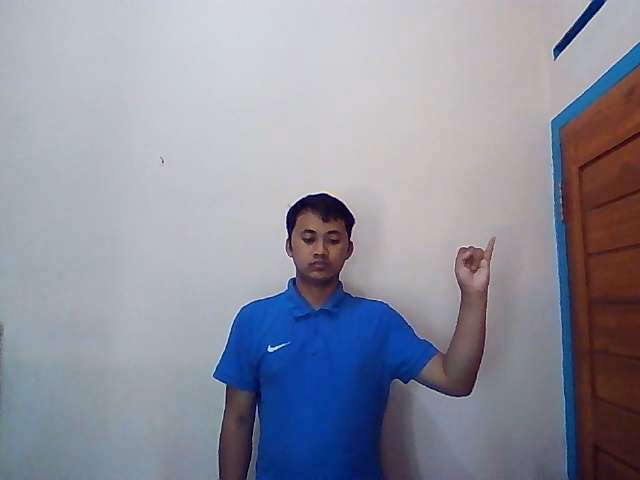I: (454, 235, 496, 290)
